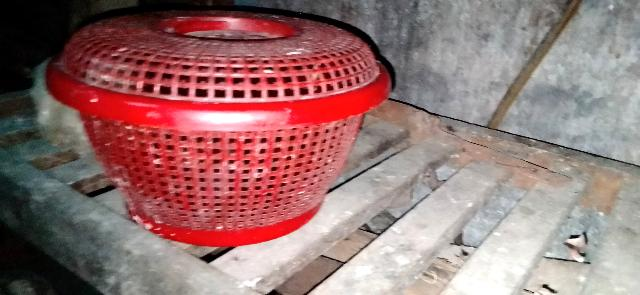hardplastic: (64, 11, 381, 239)
